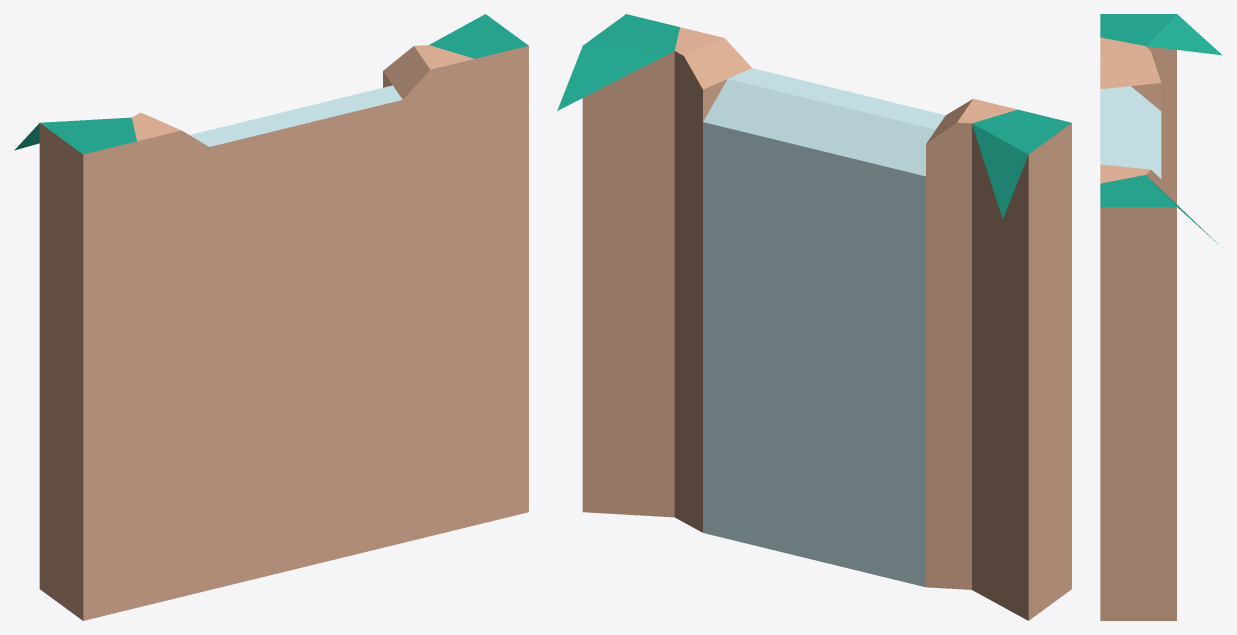
Rendered from cliff_waterfallTop_rock.glb.
3 views of the same model, side by side, from view 1: azimuth 30°, elevation 25°; view 2: azimuth 150°, elevation 25°; view 3: azimuth 270°, elevation 25° (orthographic). The views are drawn at different scales.
Visible parts, largest first — view 1: cliff_waterfallTop_rock; view 2: cliff_waterfallTop_rock; view 3: cliff_waterfallTop_rock.
Part boxes in pixels (x1,y1,x2,y2): cliff_waterfallTop_rock: (14, 14, 528, 620); cliff_waterfallTop_rock: (557, 14, 1071, 620); cliff_waterfallTop_rock: (1100, 14, 1222, 620).
Bounding box in the file's own units: 1.2 × 1.2 × 0.3222.
